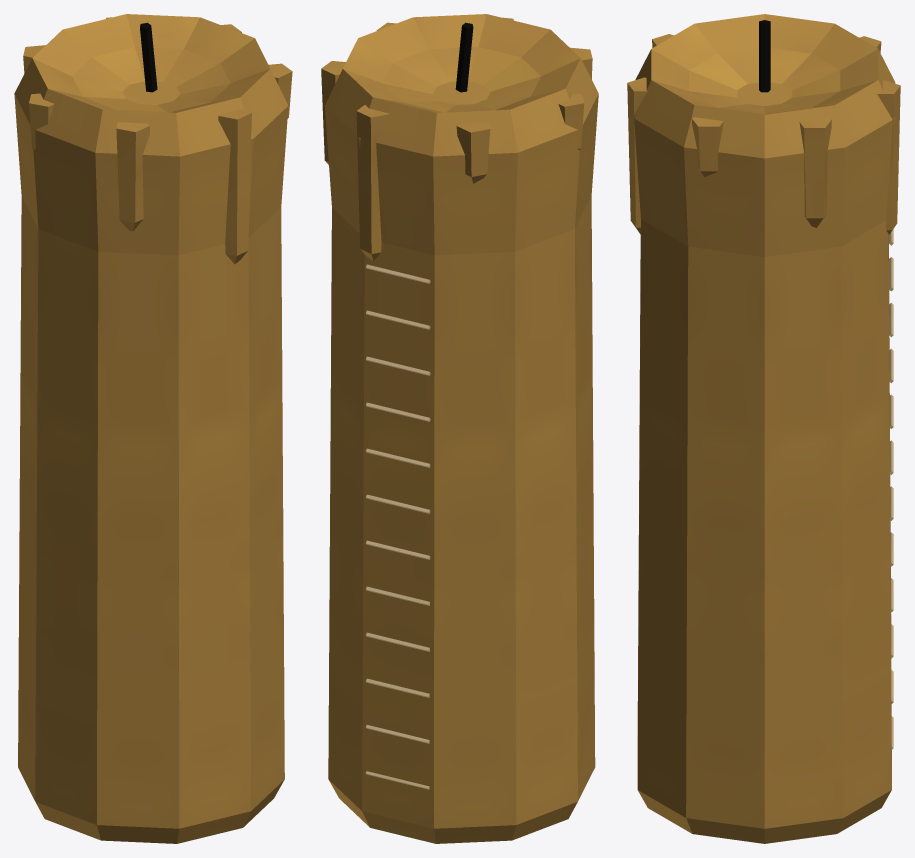
File: Candle_Ochre.obj
3 views of the same model, side by side, from view 1: azimuth 30°, elevation 25°; view 2: azimuth 150°, elevation 25°; view 3: azimuth 270°, elevation 25° (orthographic).
Visible parts, largest first — view 1: Candle_Ochre_Mesh; view 2: Candle_Ochre_Mesh; view 3: Candle_Ochre_Mesh.
Part boxes in pixels (x1,y1,x2,y2): Candle_Ochre_Mesh: (14, 14, 292, 843); Candle_Ochre_Mesh: (321, 14, 598, 843); Candle_Ochre_Mesh: (627, 14, 900, 843).
Size of the model in its own units: 0.077 by 0.2341 by 0.0756.
3 materials, 2 textured.
